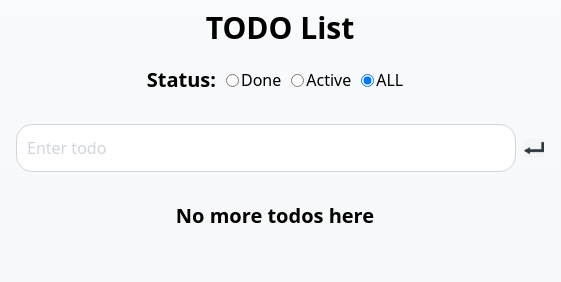
TodoApp › Todo List › Create a TODO
Type "todo 1" into the field with test id "test-input". click: coordinates (266, 148)
box: [16,124,516,172]
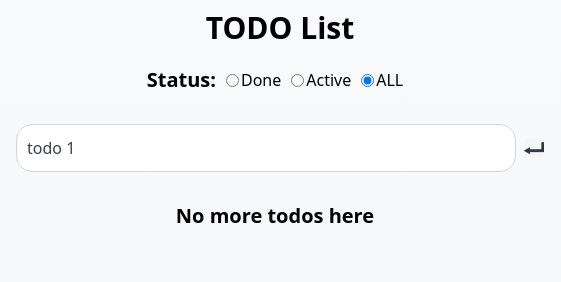
Click the button with test id "submit". click: coordinates (534, 148)
box: [524,138,544,158]
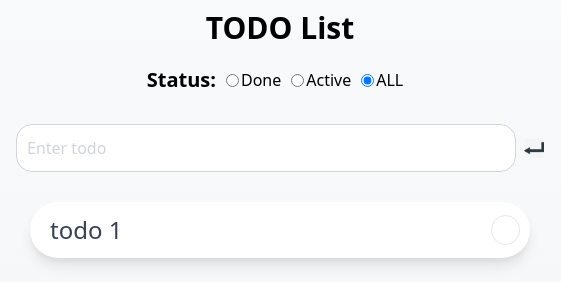
Now the text "todo 1" is shown, box [50,213,122,246]
